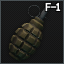F-1 hand grenade: (0, 0, 64, 64)
